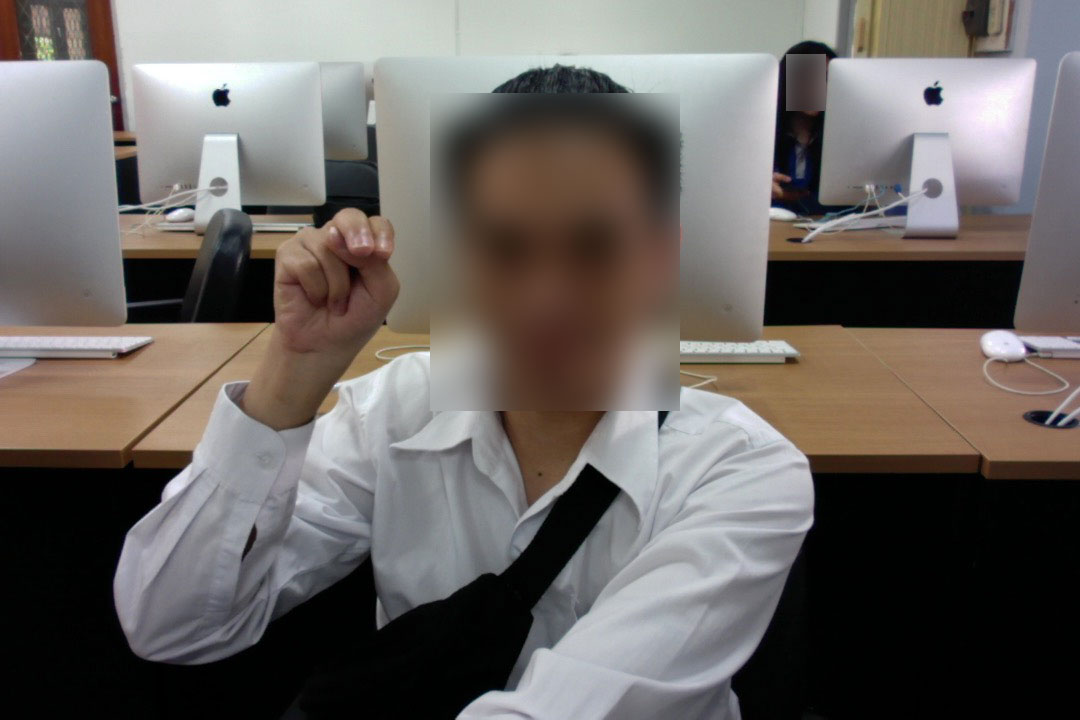nor: (267, 202, 401, 381)
